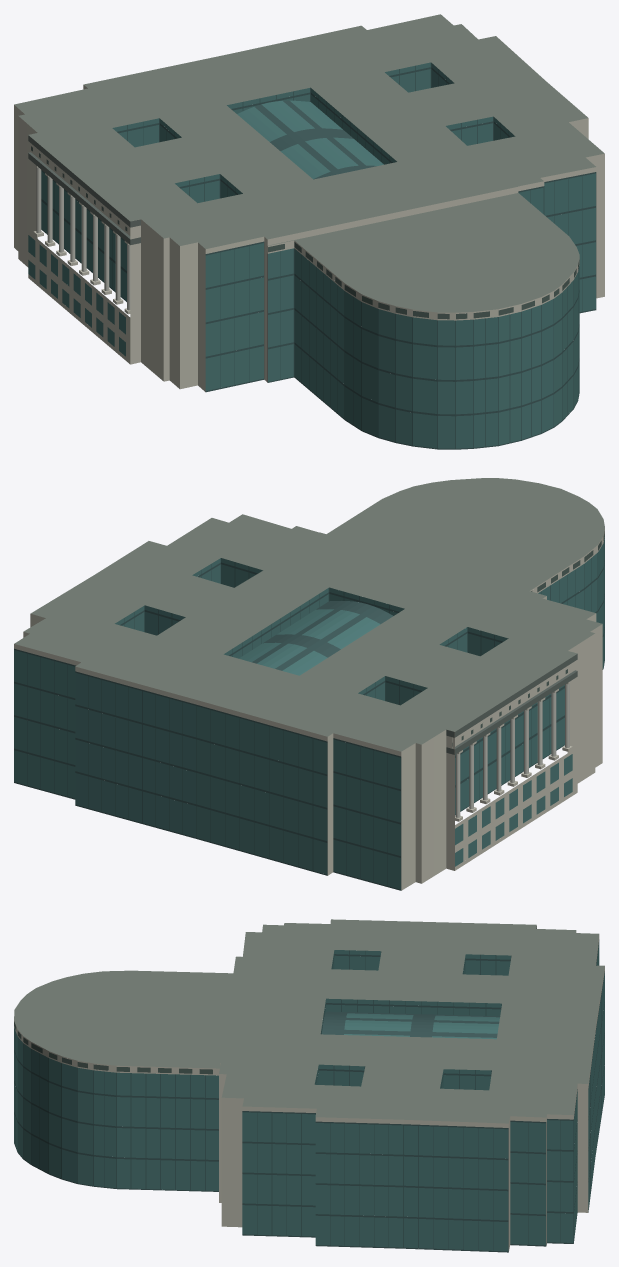
File: national-library-romania-far.glb
3 views of the same model, one above another, from view 1: azimuth 30°, elevation 25°; view 2: azimuth 150°, elevation 25°; view 3: azimuth 270°, elevation 25° (orthographic). The views are drawn at different scales.
Visible parts, largest first — view 1: national-library-romania-0-roof, national-library-romania-0-glass, national-library-romania-0-stone, national-library-romania-0-mullion, national-library-romania-0-column, national-library-romania-0-cornice, national-library-romania-0-vent; view 2: national-library-romania-0-roof, national-library-romania-0-glass, national-library-romania-0-stone, national-library-romania-0-mullion, national-library-romania-0-column, national-library-romania-0-cornice; view 3: national-library-romania-0-roof, national-library-romania-0-glass, national-library-romania-0-mullion, national-library-romania-0-stone, national-library-romania-0-vent.
Boxes of the visible parts, bbox=[...] form: national-library-romania-0-roof: bbox=[14, 14, 604, 312]; national-library-romania-0-glass: bbox=[28, 62, 595, 448]; national-library-romania-0-stone: bbox=[14, 85, 604, 391]; national-library-romania-0-mullion: bbox=[41, 62, 596, 449]; national-library-romania-0-column: bbox=[36, 167, 130, 310]; national-library-romania-0-cornice: bbox=[28, 135, 140, 245]; national-library-romania-0-vent: bbox=[31, 146, 579, 319]; national-library-romania-0-roof: bbox=[14, 478, 604, 751]; national-library-romania-0-glass: bbox=[14, 536, 604, 889]; national-library-romania-0-stone: bbox=[14, 528, 604, 890]; national-library-romania-0-mullion: bbox=[14, 553, 604, 890]; national-library-romania-0-column: bbox=[455, 683, 569, 817]; national-library-romania-0-cornice: bbox=[446, 654, 577, 754]; national-library-romania-0-roof: bbox=[14, 919, 604, 1123]; national-library-romania-0-glass: bbox=[14, 941, 604, 1251]; national-library-romania-0-mullion: bbox=[14, 939, 604, 1252]; national-library-romania-0-stone: bbox=[14, 927, 604, 1251]; national-library-romania-0-vent: bbox=[14, 1021, 212, 1074].
Bounding box in the file's own units: 119 × 35 × 145.
